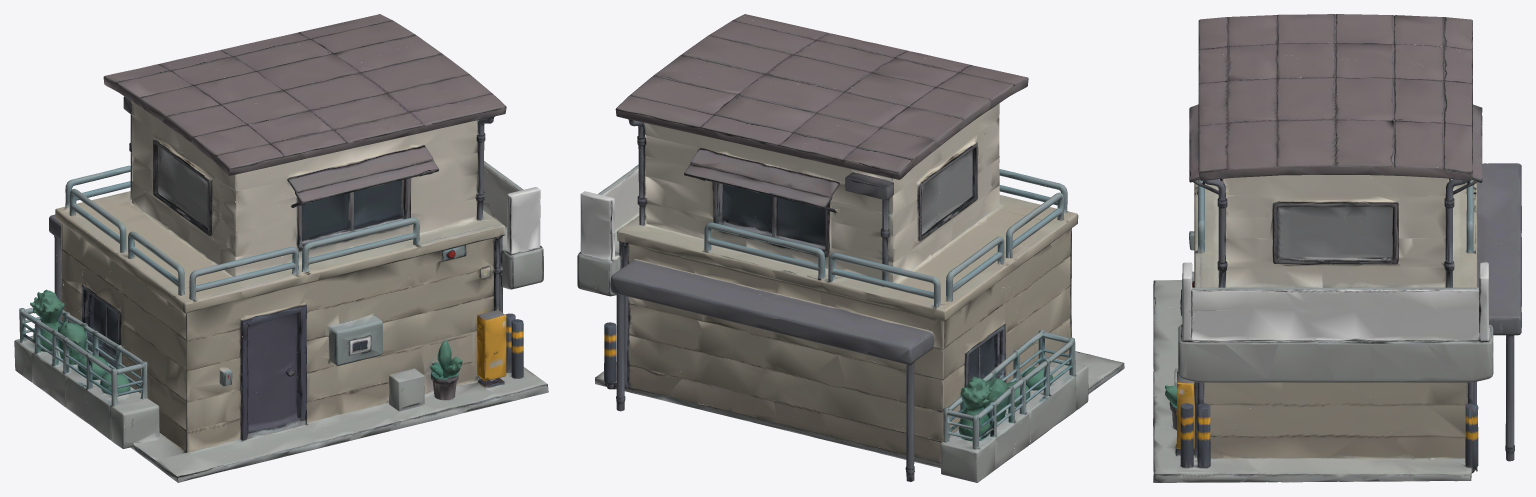
Rendered from building8.glb.
3 renders of one model, left to right at view 1: azimuth 30°, elevation 25°; view 2: azimuth 150°, elevation 25°; view 3: azimuth 270°, elevation 25°, orthographic. The views are drawn at different scales.
Parts seen in each view (by area): view 1: tripo_node_95ddbce6-4bf9-4057-909a-4cd41192bf64; view 2: tripo_node_95ddbce6-4bf9-4057-909a-4cd41192bf64; view 3: tripo_node_95ddbce6-4bf9-4057-909a-4cd41192bf64.
Boxes of the visible parts, bbox=[...] form: tripo_node_95ddbce6-4bf9-4057-909a-4cd41192bf64: bbox=[14, 14, 548, 482]; tripo_node_95ddbce6-4bf9-4057-909a-4cd41192bf64: bbox=[577, 14, 1124, 482]; tripo_node_95ddbce6-4bf9-4057-909a-4cd41192bf64: bbox=[1153, 14, 1521, 482].
Bounding box in the file's own units: 1 × 0.7054 × 0.7555.
Materials: 1 (1 with a texture image).
